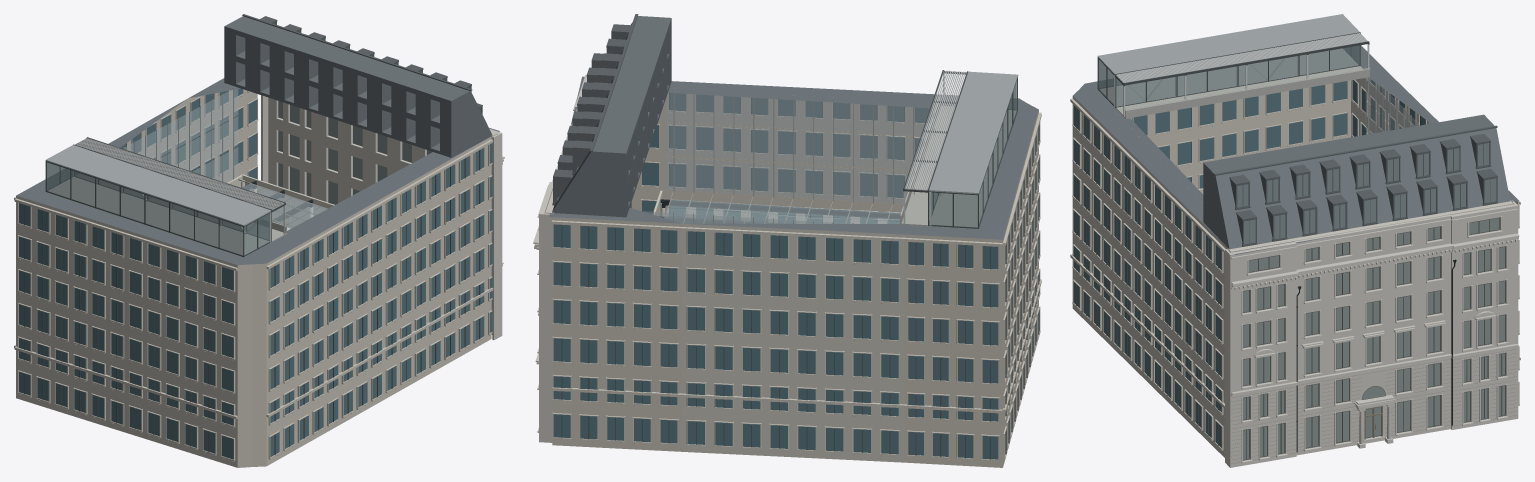
The model's file is ckk-exterior-42147f15931a.glb.
3 renders of one model, left to right at view 1: azimuth 30°, elevation 25°; view 2: azimuth 150°, elevation 25°; view 3: azimuth 270°, elevation 25°, orthographic. The views are drawn at different scales.
Visible parts, largest first — view 1: CKK.001; view 2: CKK.001; view 3: CKK.001.
Boxes of the visible parts, x1,y1,x2,y2 form: CKK.001: [14, 14, 504, 467]; CKK.001: [533, 14, 1041, 467]; CKK.001: [1070, 14, 1520, 467].
Bounding box in the file's own units: 56.1 × 32.3 × 47.89.
